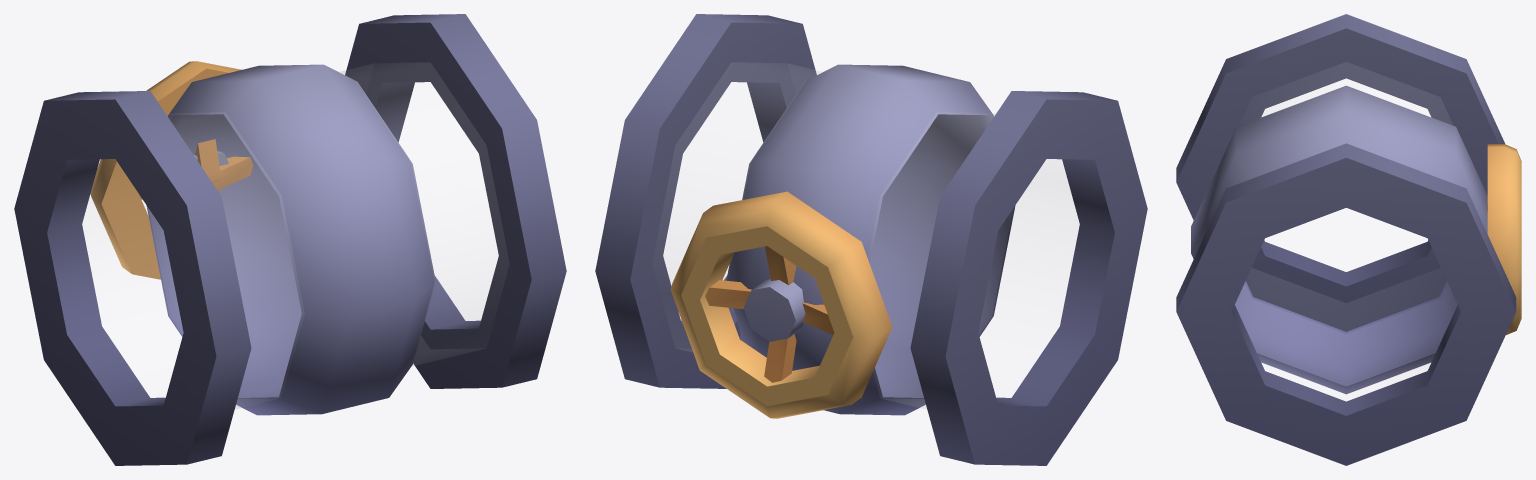
The model's file is pipe-glass-large-valve.glb.
The picture shows the model from 3 angles, left to right: view 1: azimuth 30°, elevation 25°; view 2: azimuth 150°, elevation 25°; view 3: azimuth 270°, elevation 25°; orthographic projection. The views are drawn at different scales.
Visible parts, largest first — view 1: pipe-glass-large-valve; view 2: pipe-glass-large-valve; view 3: pipe-glass-large-valve.
Boxes of the visible parts, bbox=[...] form: pipe-glass-large-valve: bbox=[14, 14, 566, 465]; pipe-glass-large-valve: bbox=[595, 14, 1147, 465]; pipe-glass-large-valve: bbox=[1176, 14, 1521, 465].
Size of the model in its own units: 1 by 1 by 1.02.
